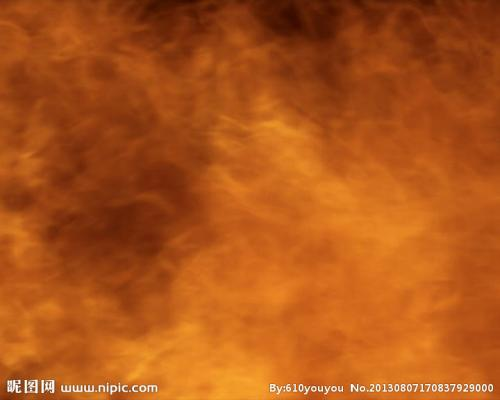fire: (3, 16, 500, 333)
